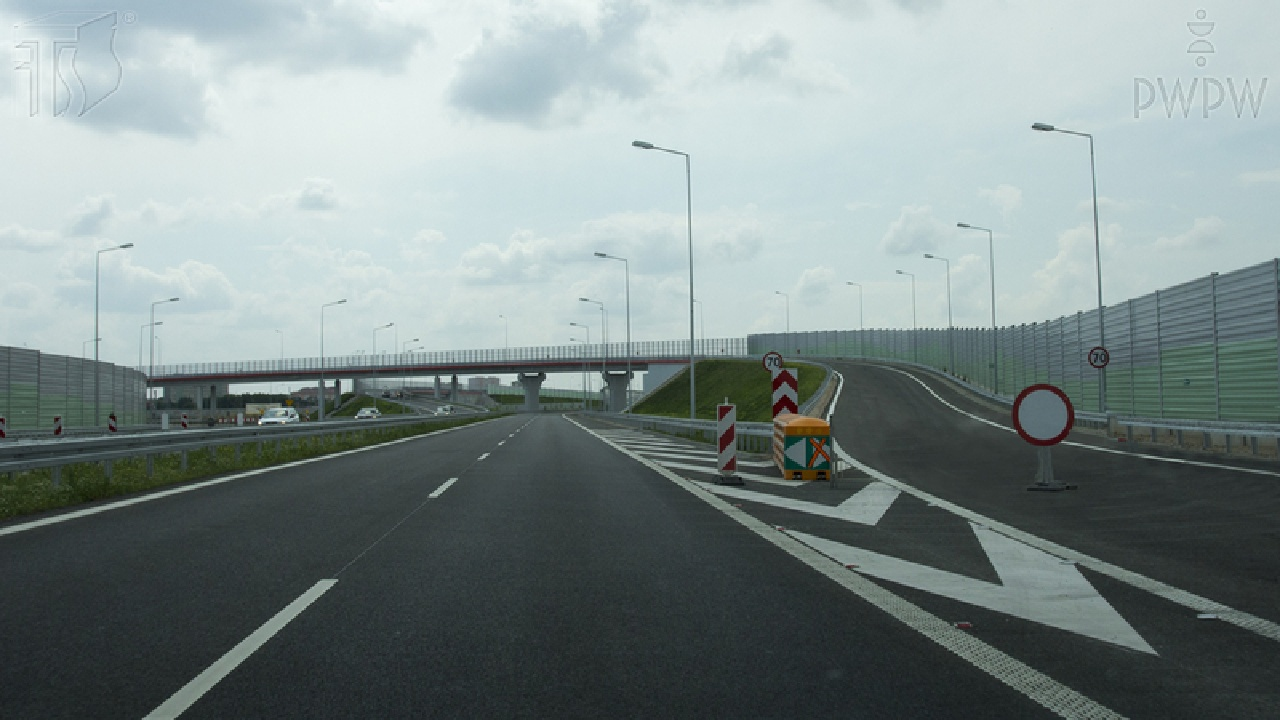B1: (1013, 384, 1074, 446)
B33_70: (1088, 347, 1109, 369), (763, 352, 783, 372)
